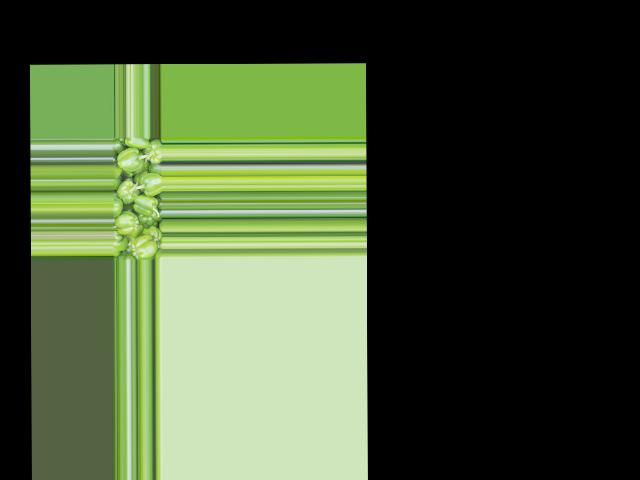bell_pepper: (112, 138, 160, 260)
